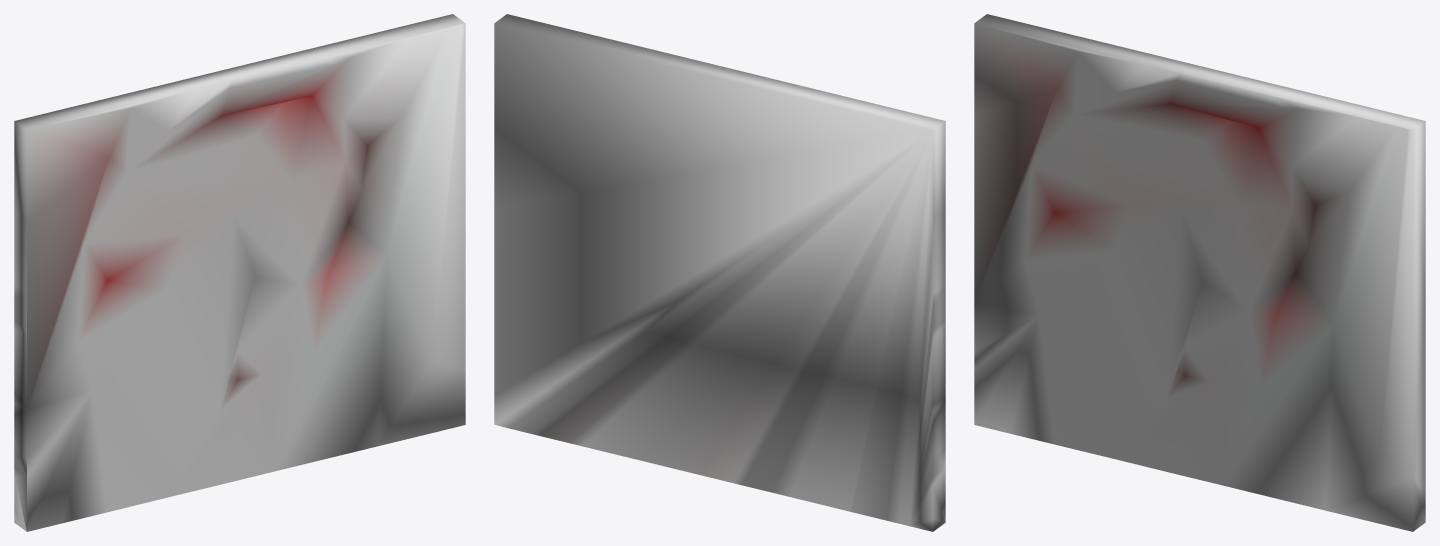
File: SM_FA_Factory_W400_H350.fbx
3 views of the same model, side by side, from view 1: azimuth 30°, elevation 25°; view 2: azimuth 150°, elevation 25°; view 3: azimuth 330°, elevation 25° (orthographic).
Parts seen in each view (by area): view 1: SM_FA_Factory_W400_H350; view 2: SM_FA_Factory_W400_H350; view 3: SM_FA_Factory_W400_H350.
Boxes of the visible parts, x1,y1,x2,y2 form: SM_FA_Factory_W400_H350: [14, 14, 465, 531]; SM_FA_Factory_W400_H350: [494, 14, 945, 531]; SM_FA_Factory_W400_H350: [974, 14, 1425, 531].
Size of the model in its own units: 400 by 20 by 350.
